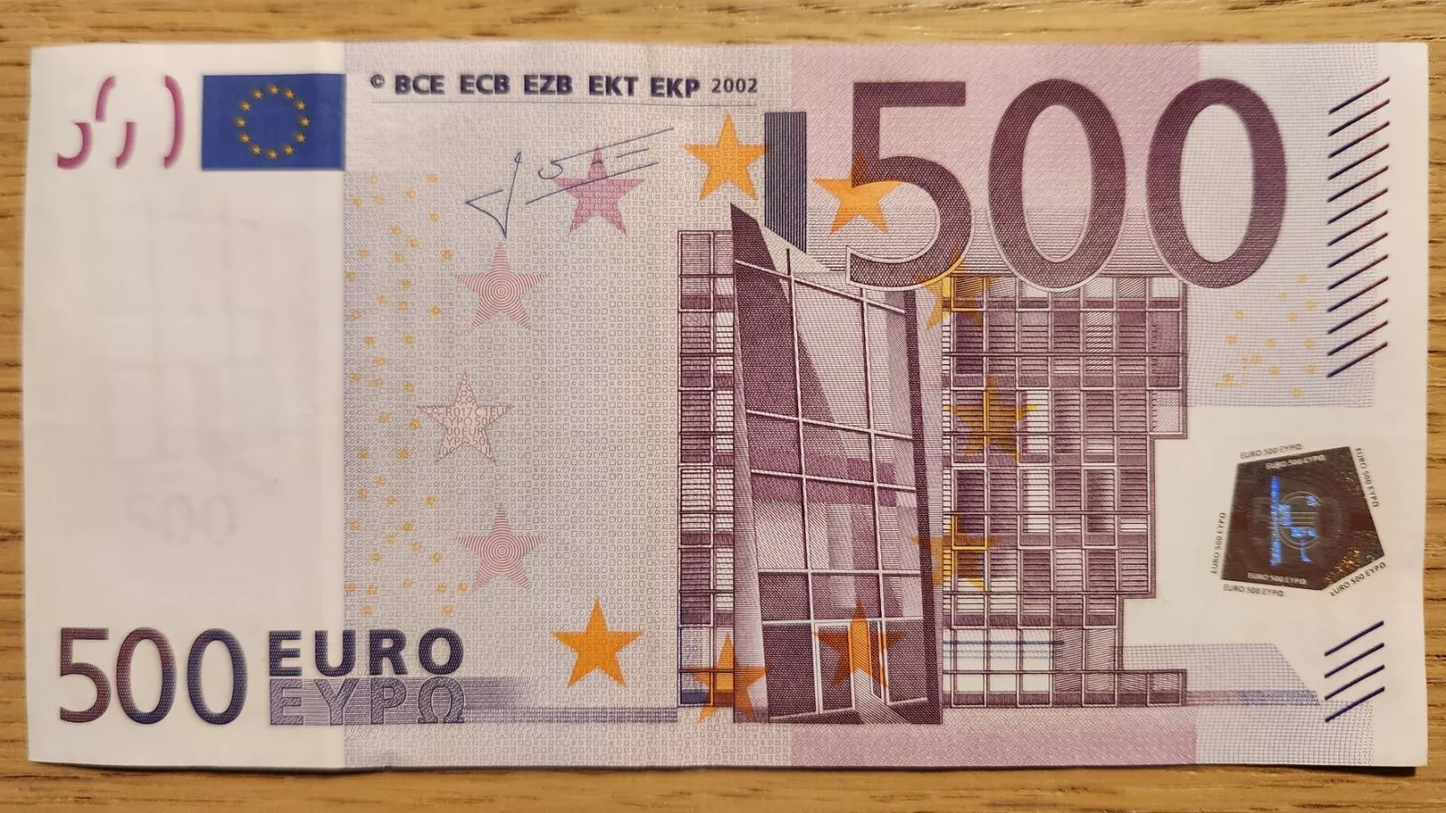Nota de 500€: (15, 29, 1440, 783)
